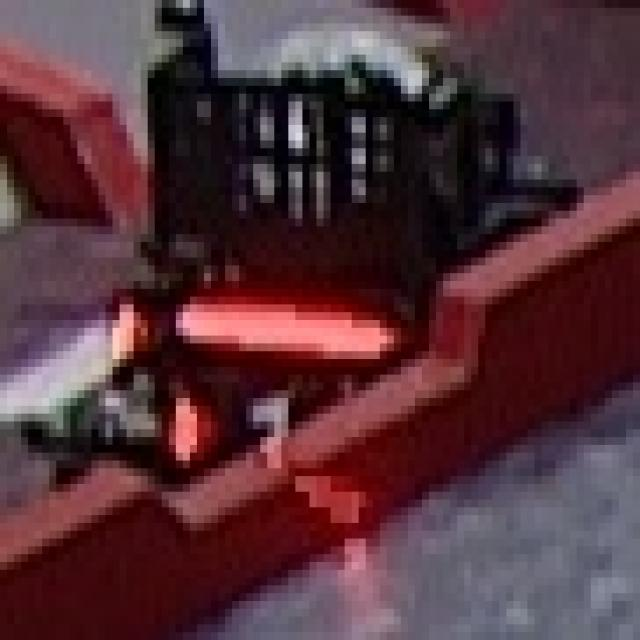R1: (169, 375, 302, 476)
